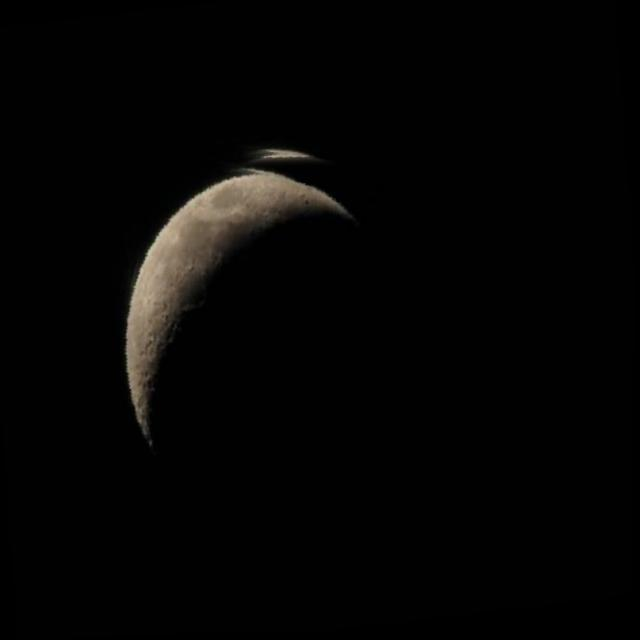moon: (100, 126, 422, 515)
